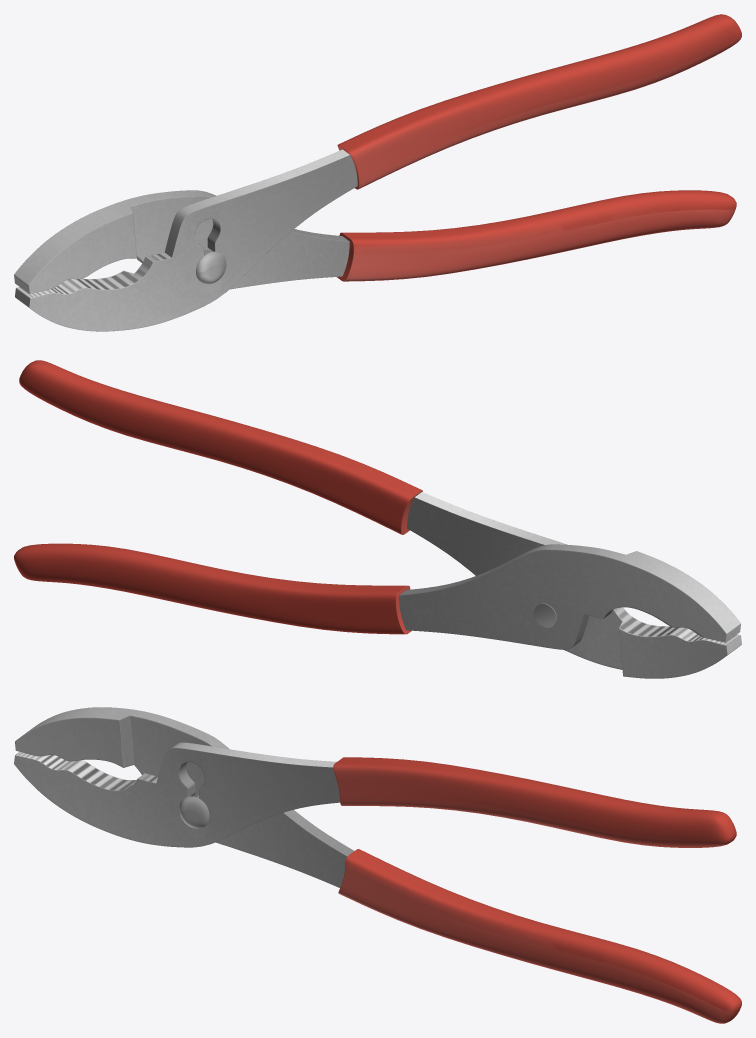
File: 10307_Pilers_v2_Max2011_it2.obj
3 renders of one model, top to bottom at view 1: azimuth 30°, elevation 25°; view 2: azimuth 150°, elevation 25°; view 3: azimuth 330°, elevation 25°, orthographic.
Parts seen in each view (by area): view 1: 10307_Pilers_v1_Max2011; view 2: 10307_Pilers_v1_Max2011; view 3: 10307_Pilers_v1_Max2011.
Part boxes in pixels (left/top/right/bottom): 10307_Pilers_v1_Max2011: left=14, top=14, right=741, bottom=331; 10307_Pilers_v1_Max2011: left=14, top=360, right=741, bottom=678; 10307_Pilers_v1_Max2011: left=14, top=707, right=741, bottom=1023.
Bounding box in the file's own units: 21.11 × 6 × 1.12.
